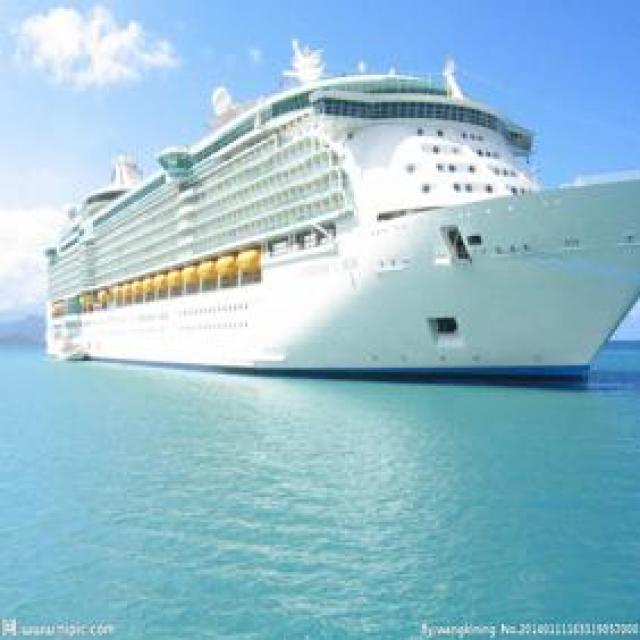passenger ship: (35, 49, 634, 400)
